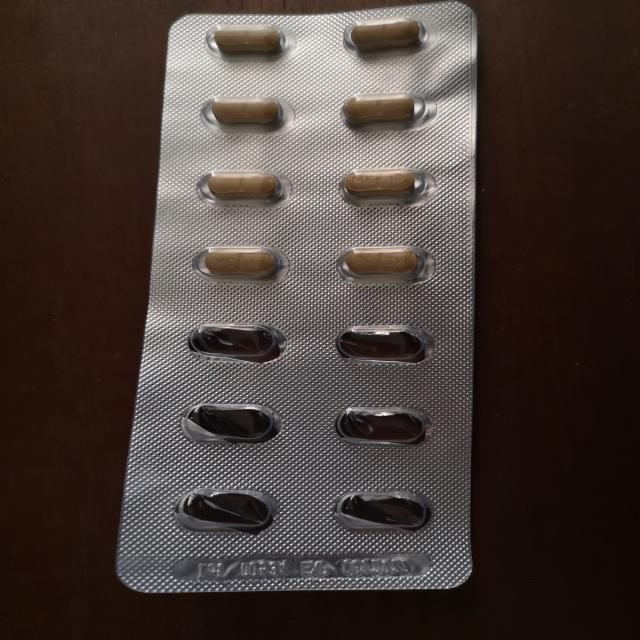Empty: (168, 394, 286, 450), (163, 484, 285, 538), (323, 320, 439, 371), (326, 399, 436, 451), (326, 486, 440, 536), (185, 316, 291, 365)
Pill: (329, 239, 438, 287), (186, 238, 294, 286), (330, 166, 438, 211), (193, 89, 293, 135), (333, 87, 429, 132), (192, 166, 294, 208), (336, 12, 434, 55), (199, 21, 297, 62)
